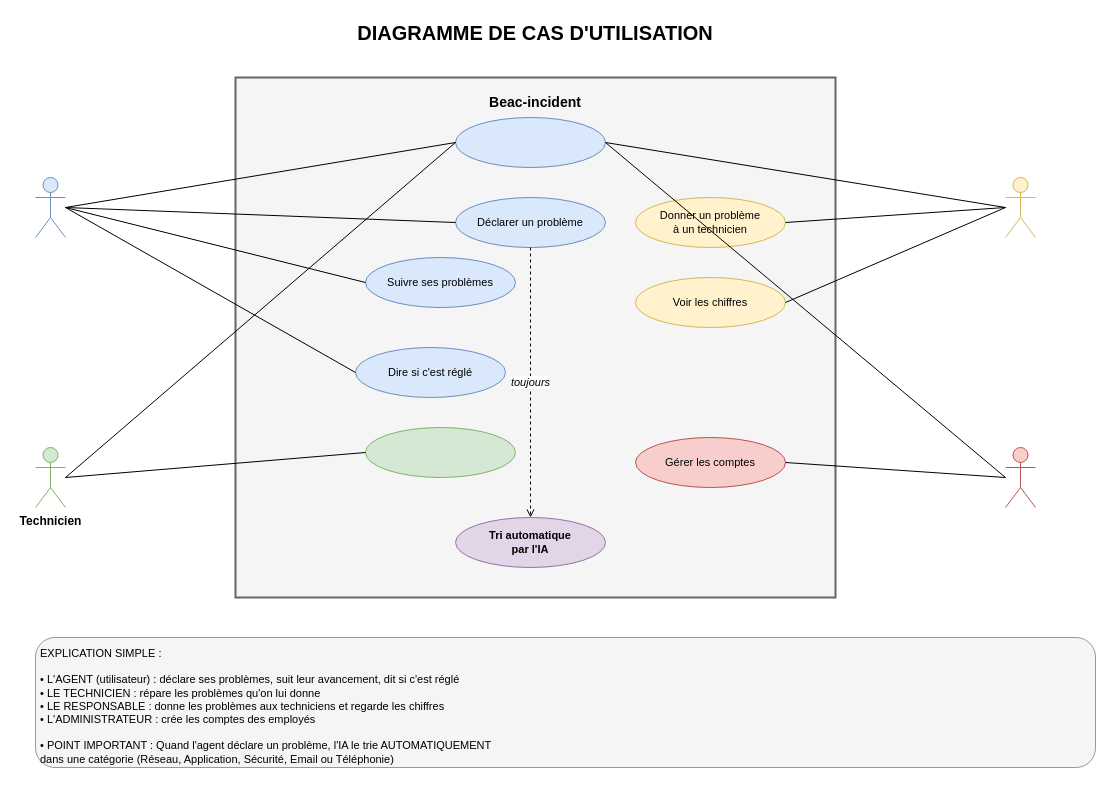
Some shapes in this 1113 by 785 pixel diagram are drawn without their labels. Here are the shapes that lost their labels. From the top down, the centre of each, then its label:
[530,142]: Se connecter
[50,207]: Agent (Utilisateur)
[1020,207]: Responsable
[440,452]: Réparer un problème
[1020,477]: Administrateur
